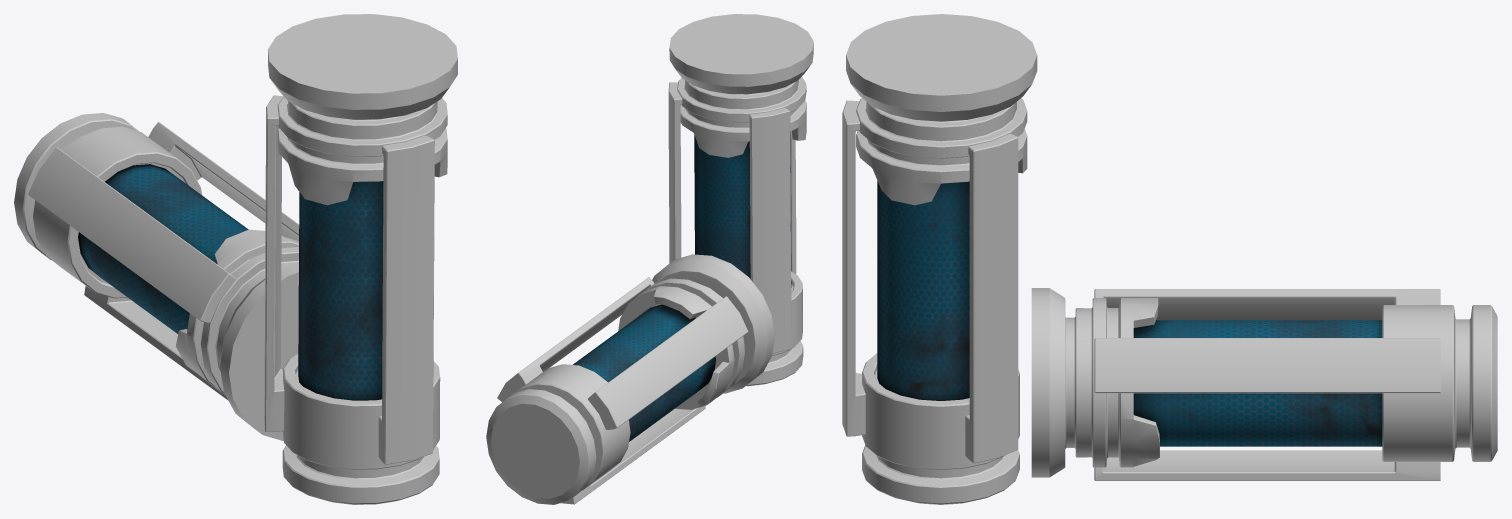
File: enerji_kapsülleri_üstünden atlama.fbx
The picture shows the model from 3 angles, left to right: view 1: azimuth 30°, elevation 25°; view 2: azimuth 150°, elevation 25°; view 3: azimuth 270°, elevation 25°; orthographic projection. The views are drawn at different scales.
Parts seen in each view (by area): view 1: low3, low2; view 2: low2, low3; view 3: low2, low3.
Part boxes in pixels (x1=…): low3: x1=264, y1=14, x2=457, y2=504; low2: x1=14, y1=113, x2=299, y2=441; low2: x1=486, y1=254, x2=774, y2=504; low3: x1=668, y1=14, x2=813, y2=386; low2: x1=1031, y1=288, x2=1497, y2=480; low3: x1=842, y1=14, x2=1037, y2=504.
Bounding box in the file's own units: 197 × 463 × 650.
